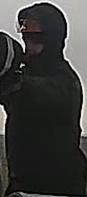helmet: (15, 11, 47, 34)
vest: (1, 59, 86, 194)
